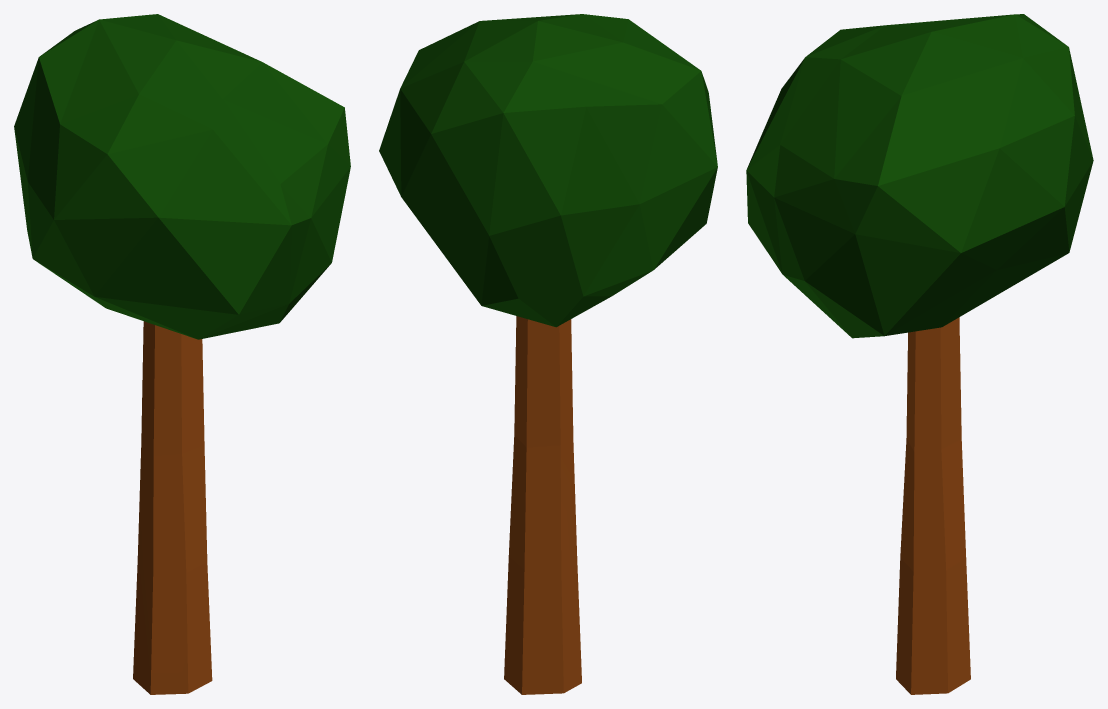
File: Oak1.fbx
3 views of the same model, side by side, from view 1: azimuth 30°, elevation 25°; view 2: azimuth 150°, elevation 25°; view 3: azimuth 270°, elevation 25° (orthographic). The views are drawn at different scales.
Parts seen in each view (by area): view 1: Oak1.003; view 2: Oak1.003; view 3: Oak1.003.
Part boxes in pixels (x1,y1,x2,y2): Oak1.003: (14,14,350,694); Oak1.003: (379,14,717,694); Oak1.003: (746,14,1093,694).
Size of the model in its own units: 372 by 784 by 379.
